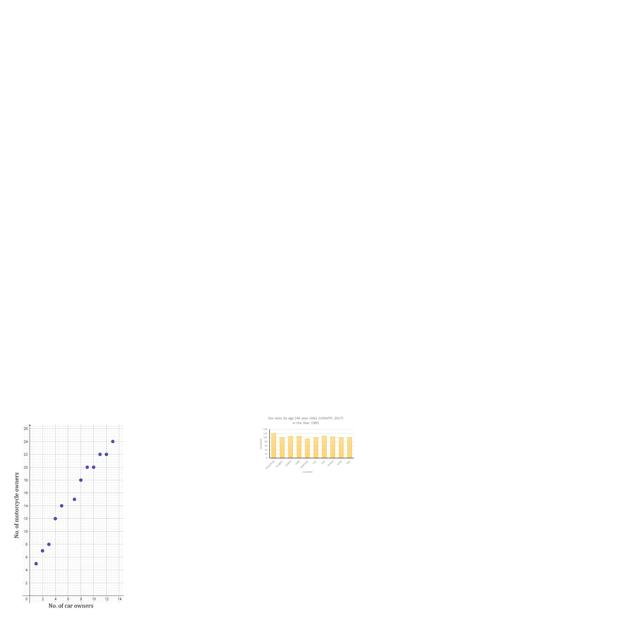Graph: (8, 424, 130, 609), (257, 415, 355, 475)
